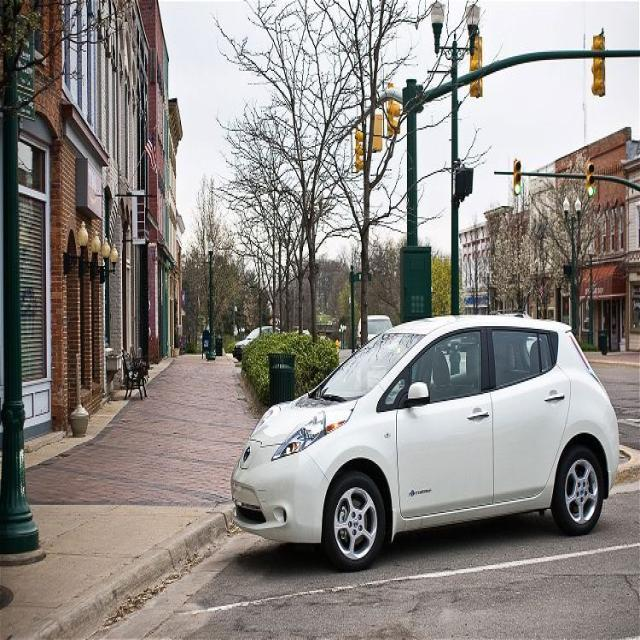car: (238, 314, 628, 573), (234, 326, 282, 346), (362, 312, 392, 343)
